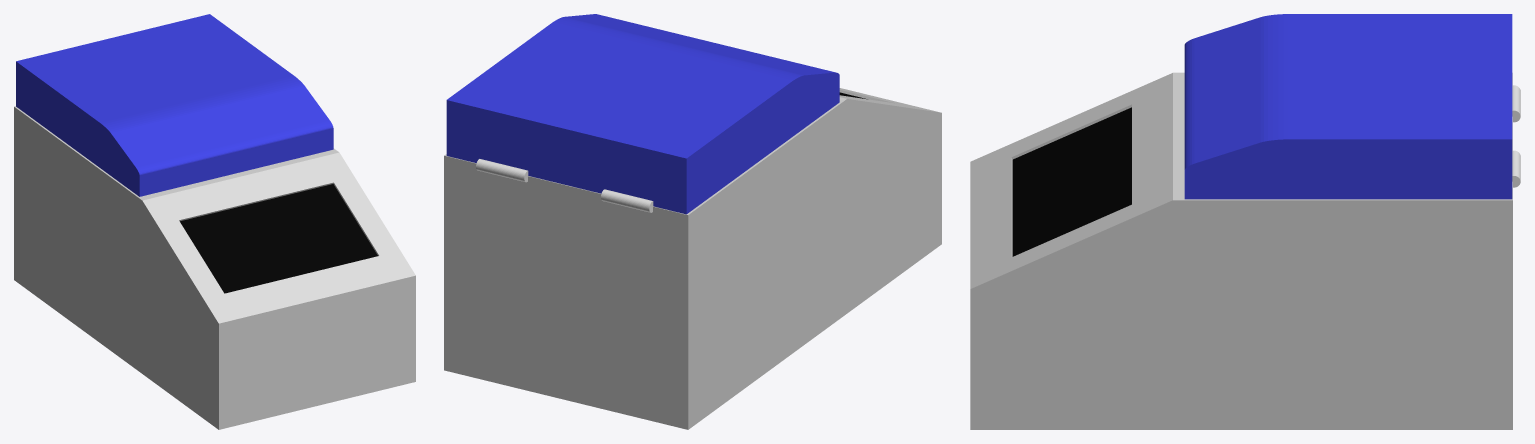
Rendered from XRF machine.fbx.
3 renders of one model, left to right at view 1: azimuth 30°, elevation 25°; view 2: azimuth 150°, elevation 25°; view 3: azimuth 270°, elevation 25°, orthographic. The views are drawn at different scales.
Parts seen in each view (by area): view 1: Than, Nap, man hinh; view 2: Than, Nap, Cylinder; view 3: Than, Nap, man hinh, Cylinder.
Boxes of the visible parts, x1=… form: Than: x1=14, y1=106, x2=415, y2=429; Nap: x1=16, y1=14, x2=333, y2=196; man hinh: x1=180, y1=184, x2=377, y2=293; Than: x1=444, y1=88, x2=941, y2=429; Nap: x1=446, y1=14, x2=839, y2=214; Cylinder: x1=476, y1=159, x2=653, y2=212; Than: x1=970, y1=72, x2=1512, y2=429; Nap: x1=1184, y1=14, x2=1512, y2=199; man hinh: x1=1012, y1=107, x2=1131, y2=256; Cylinder: x1=1512, y1=85, x2=1520, y2=187.
Bounding box in the file's own units: 28.05 × 29.72 × 51.18.
